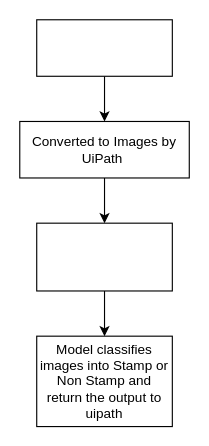
Image size: 209x446. Some labels were removed from this diagram. Here are the shapes that lost their labels. From the top down, the box of each, then its label:
(36, 19, 172, 76): Input PDF Files from PDFs Folder
(36, 222, 172, 291): Images are feed to deep learning model for classification
